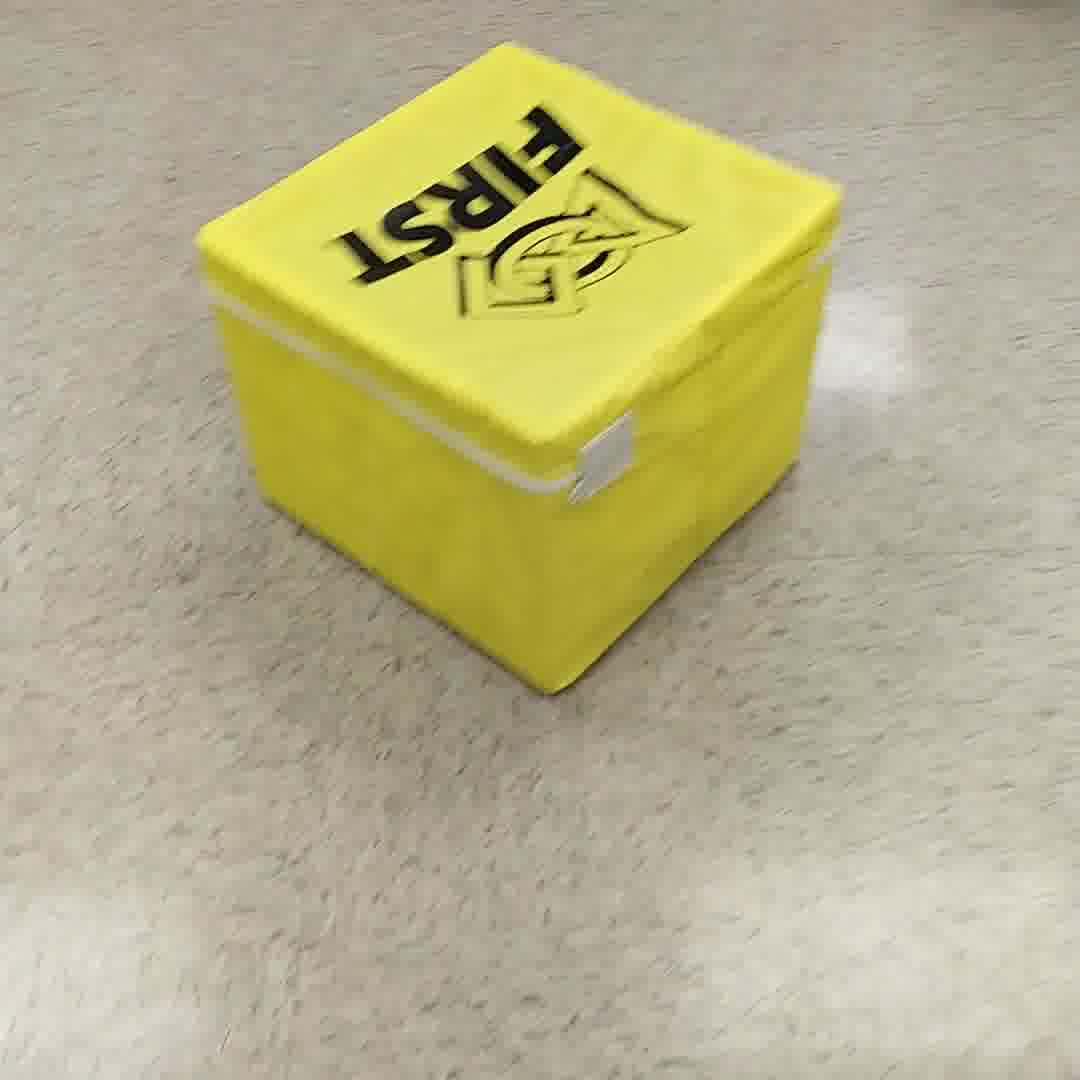box: (187, 47, 848, 695)
